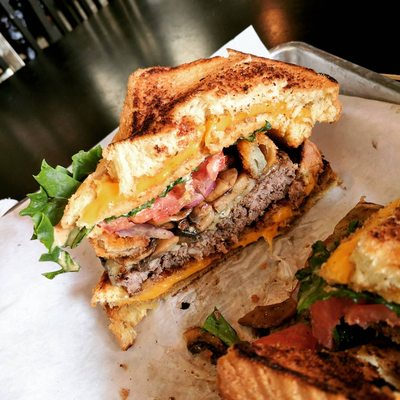soup: (18, 48, 349, 360)
